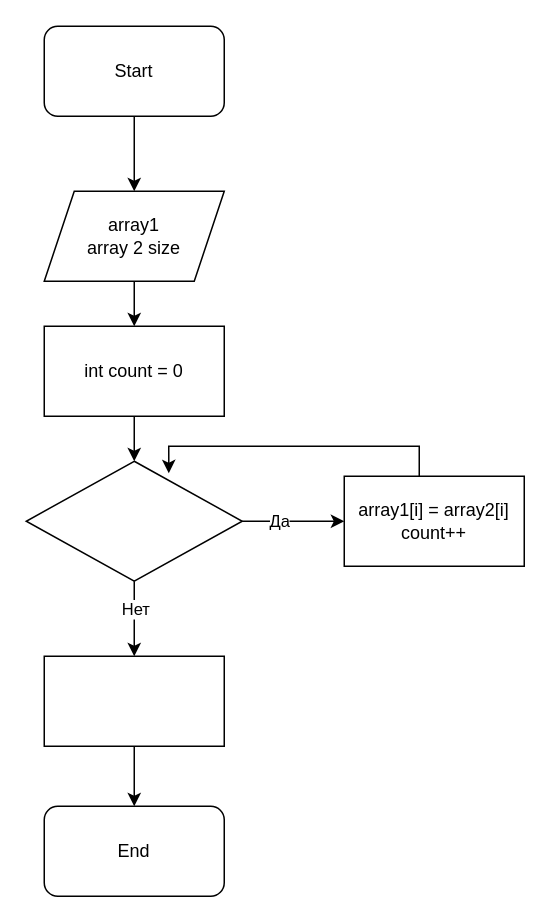
The diagram is 551 pixels wide and 923 high, and some of its shapes have lost their labels. Each missing label, with the box of its shape:
array2.size <= 3: (25, 460, 242, 581)
print array1 print array2: (43, 655, 224, 746)
